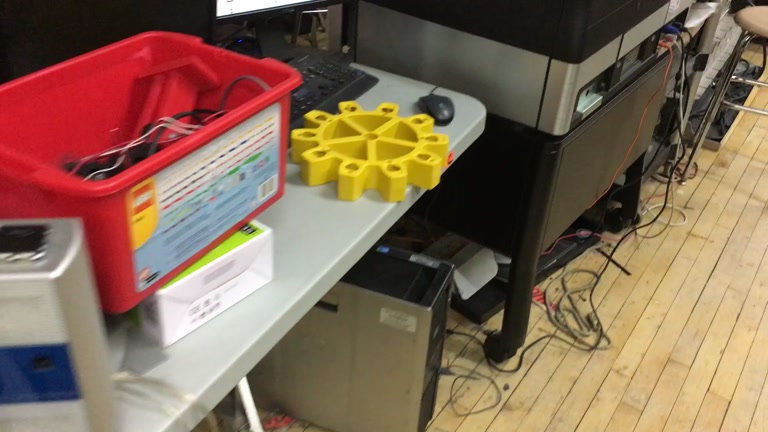gear: (289, 98, 450, 203)
